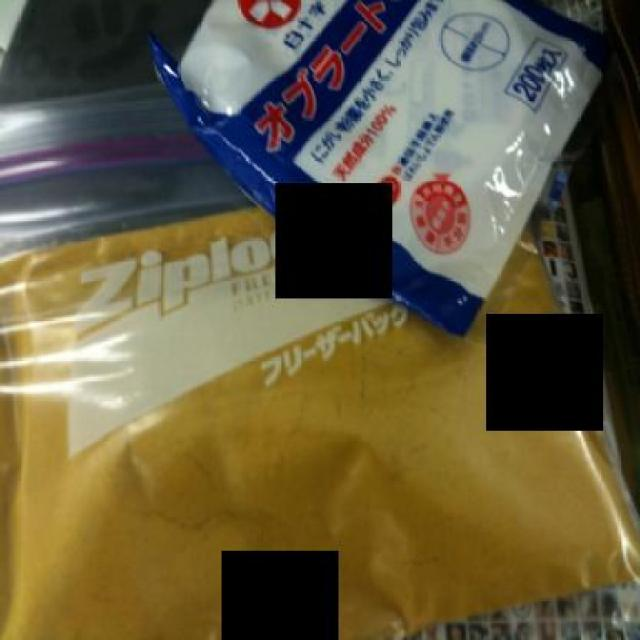plastic bag: (150, 0, 621, 335)
